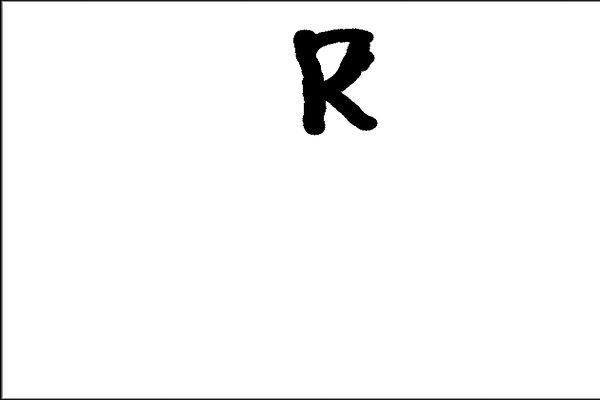R: (286, 23, 390, 141)
